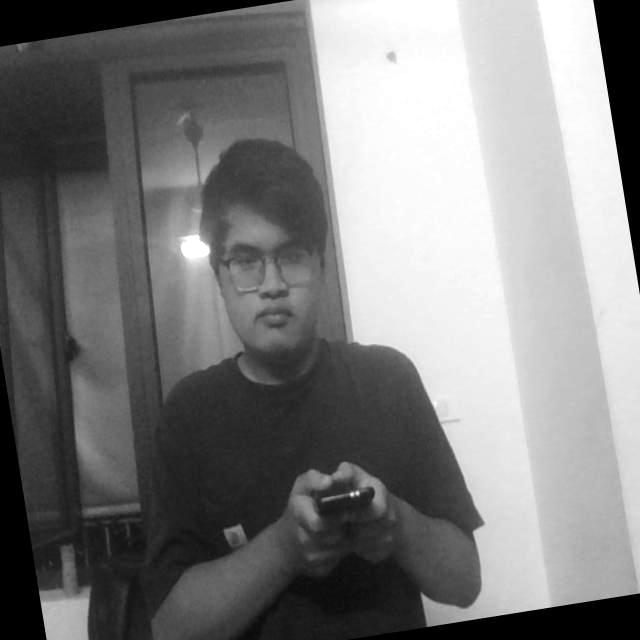phone: (298, 478, 382, 536)
